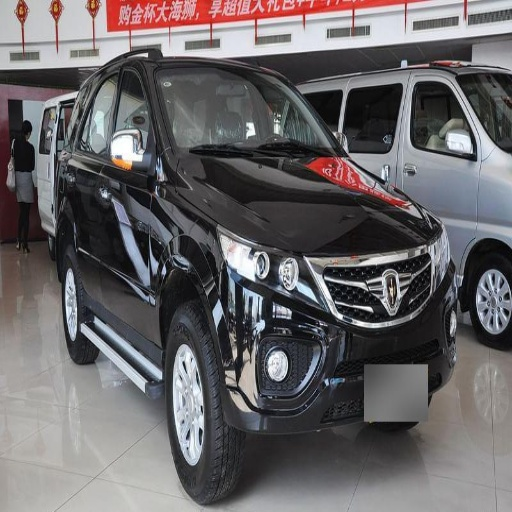front_bumper: (211, 256, 451, 432)
front_right_door: (105, 60, 157, 343), (415, 78, 464, 130)
front_right_light: (218, 234, 317, 301)
